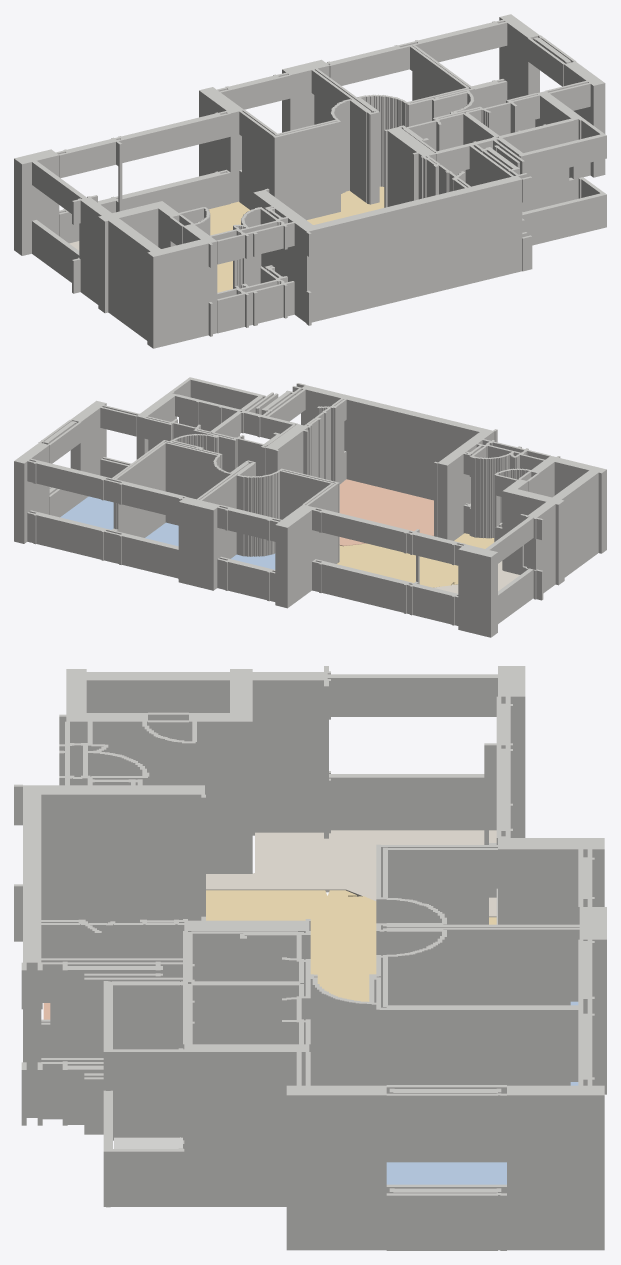
3 renders of one model, top to bottom at view 1: azimuth 30°, elevation 25°; view 2: azimuth 150°, elevation 25°; view 3: azimuth 270°, elevation 25°, orthographic. The views are drawn at different scales.
Parts seen in each view (by area): view 1: walls, room:living:8; view 2: walls, room:kitchen:1, room:living:8, room:bedroom:5, room:bedroom:7, room:other:10, room:bedroom:9; view 3: walls, room:other:10, room:living:8, room:bedroom:5, room:ledge:4.
Boxes of the visible parts, box(x1,y1,x2,y2) form: walls: box(14, 14, 606, 348); room:living:8: box(209, 186, 384, 292); walls: box(14, 377, 606, 637); room:kitchen:1: box(339, 479, 433, 546); room:living:8: box(337, 533, 494, 587); room:bedroom:5: box(60, 496, 113, 529); room:bedroom:7: box(145, 522, 178, 546); room:other:10: box(434, 561, 519, 593); room:bedroom:9: box(231, 553, 275, 569); walls: box(14, 666, 606, 1250); room:other:10: box(206, 830, 496, 917); room:living:8: box(206, 890, 496, 1001); room:bedroom:5: box(386, 1162, 506, 1184); room:ledge:4: box(114, 1137, 182, 1148).
Bounding box in the file's own units: 16.64 × 2.8 × 9.7.
